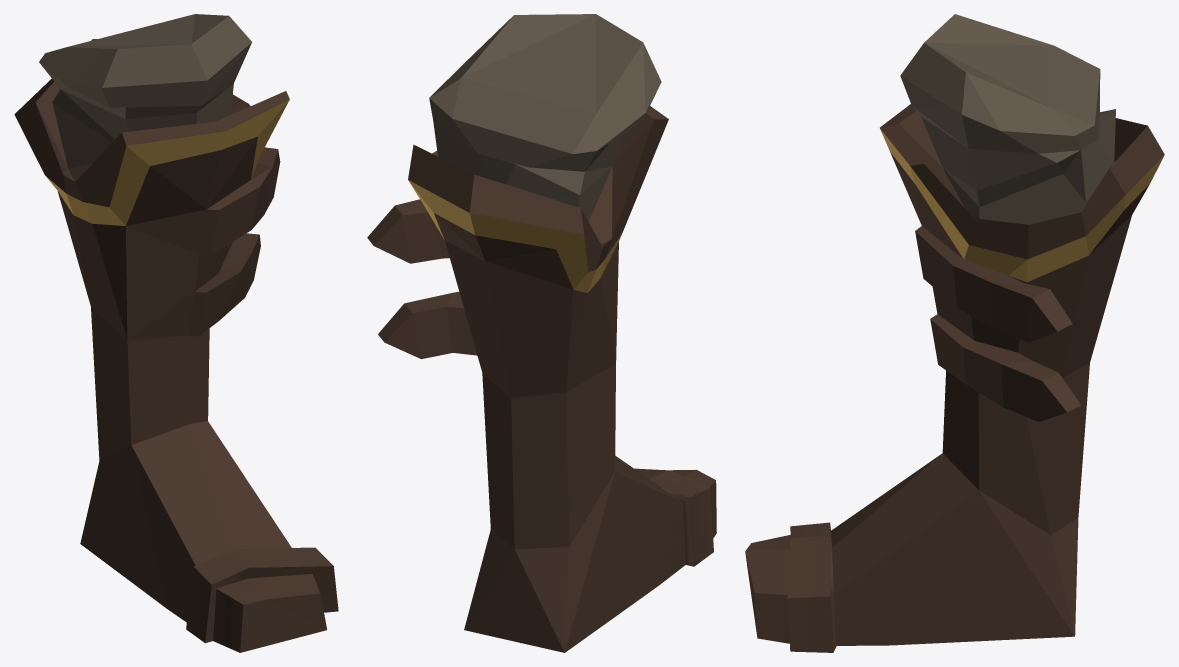
Rendered from Chr_LegLeft_Female_04_Static.fbx.
The picture shows the model from 3 angles, left to right: view 1: azimuth 30°, elevation 25°; view 2: azimuth 150°, elevation 25°; view 3: azimuth 270°, elevation 25°; orthographic projection. The views are drawn at different scales.
Visible parts, largest first — view 1: Chr_LegLeft_Female_04_Static; view 2: Chr_LegLeft_Female_04_Static; view 3: Chr_LegLeft_Female_04_Static.
Boxes of the visible parts, x1=… form: Chr_LegLeft_Female_04_Static: x1=14, y1=14, x2=338, y2=652; Chr_LegLeft_Female_04_Static: x1=367, y1=14, x2=716, y2=652; Chr_LegLeft_Female_04_Static: x1=745, y1=14, x2=1164, y2=652.
Size of the model in its own units: 0.1833 by 0.4021 by 0.2697.
